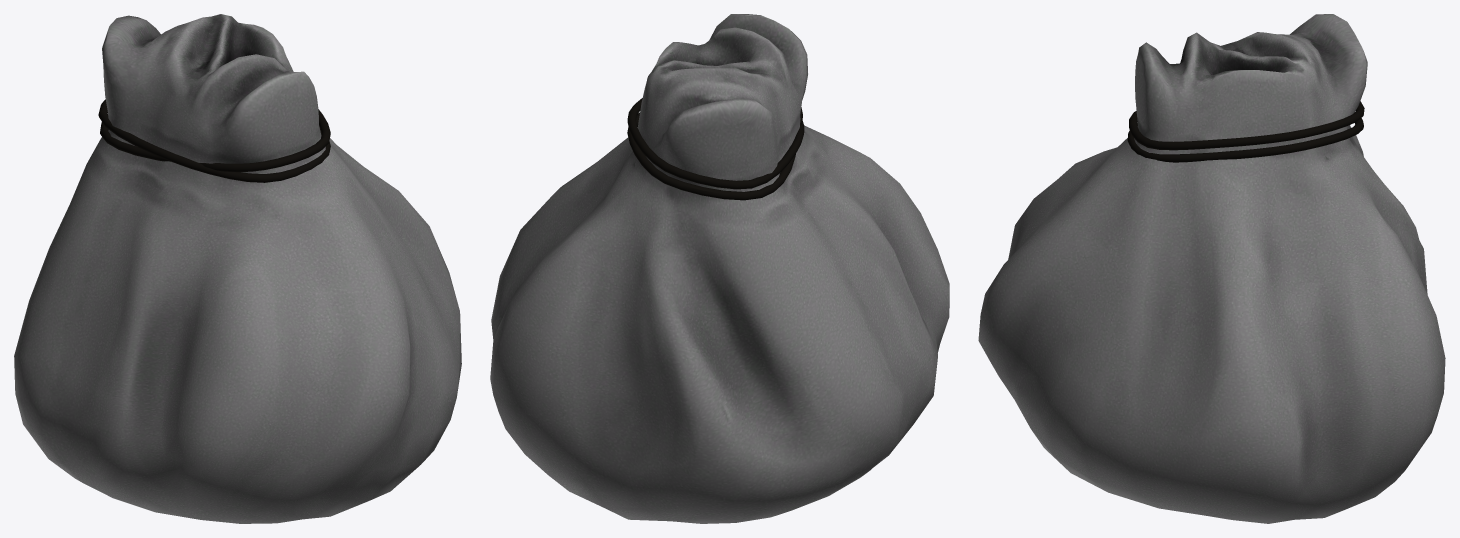
Rendered from Bag.fbx.
3 views of the same model, side by side, from view 1: azimuth 30°, elevation 25°; view 2: azimuth 150°, elevation 25°; view 3: azimuth 270°, elevation 25° (orthographic). The views are drawn at different scales.
Visible parts, largest first — view 1: Group1, Line001; view 2: Group1, Line001; view 3: Group1, Line001.
Boxes of the visible parts, x1,y1,x2,y2 form: Group1: (14, 14, 461, 523); Line001: (98, 99, 330, 182); Group1: (490, 14, 949, 523); Line001: (627, 98, 804, 200); Group1: (978, 14, 1445, 523); Line001: (1127, 101, 1364, 162).
Bounding box in the file's own units: 2.46 × 2.58 × 2.49.
